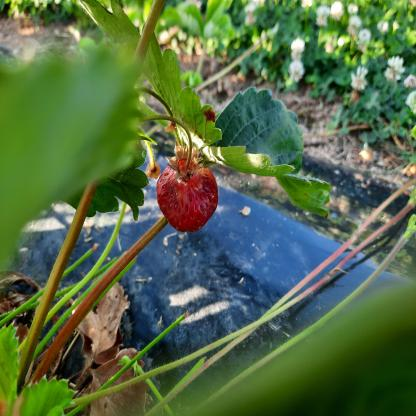ripe: (158, 164, 211, 231)
